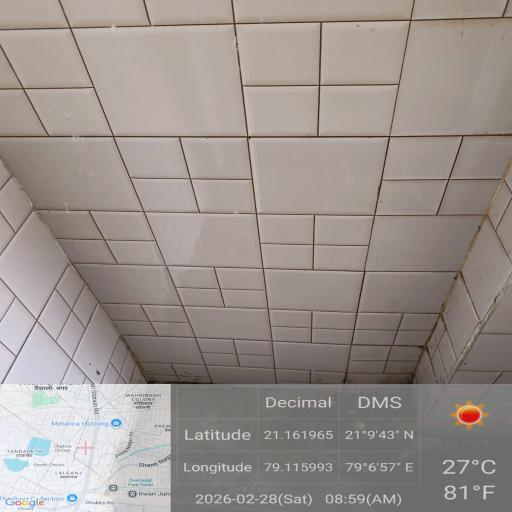clean_floor: (19, 11, 463, 499)
